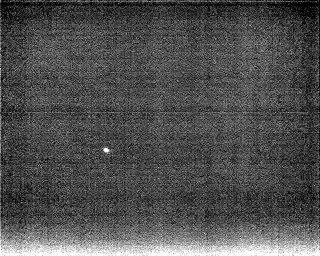AIRPLANE: (101, 145, 112, 156)
